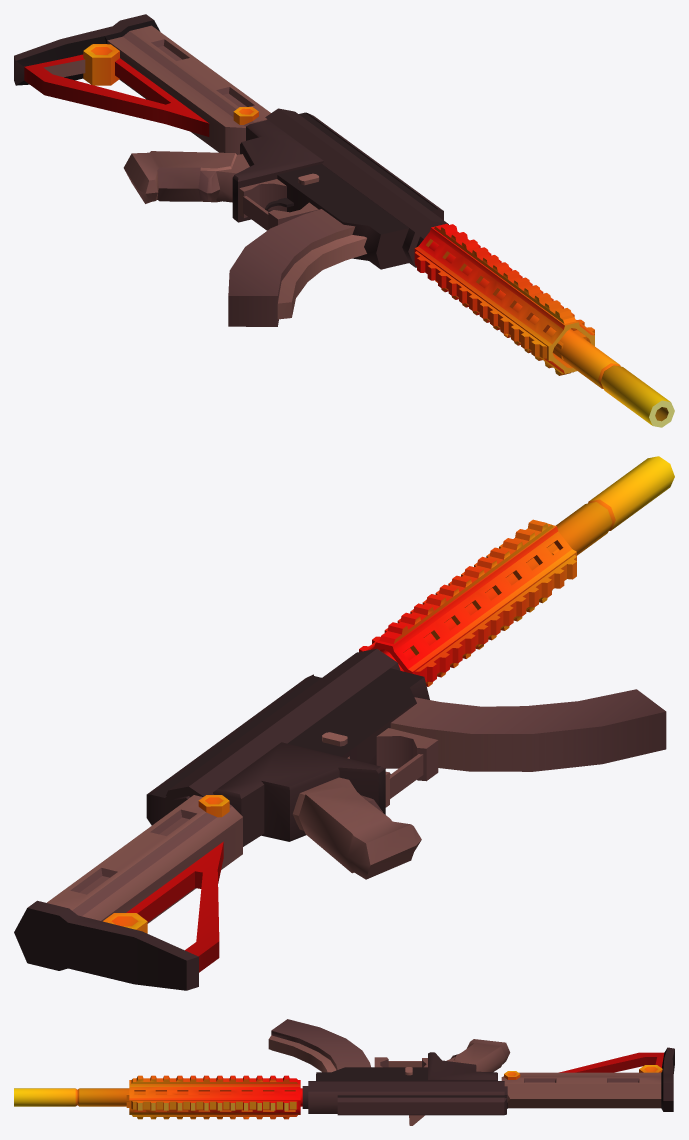
The model's file is Rifle_LVL2.fbx.
The picture shows the model from 3 angles, top to bottom: view 1: azimuth 30°, elevation 25°; view 2: azimuth 150°, elevation 25°; view 3: azimuth 270°, elevation 25°; orthographic projection. The views are drawn at different scales.
Parts seen in each view (by area): view 1: Object011; view 2: Object011; view 3: Object011.
Part boxes in pixels (x1,y1,x2,y2): Object011: (14, 14, 674, 427); Object011: (14, 456, 674, 990); Object011: (14, 1019, 674, 1125).
Bounding box in the file's own units: 36.23 × 8.77 × 127.
